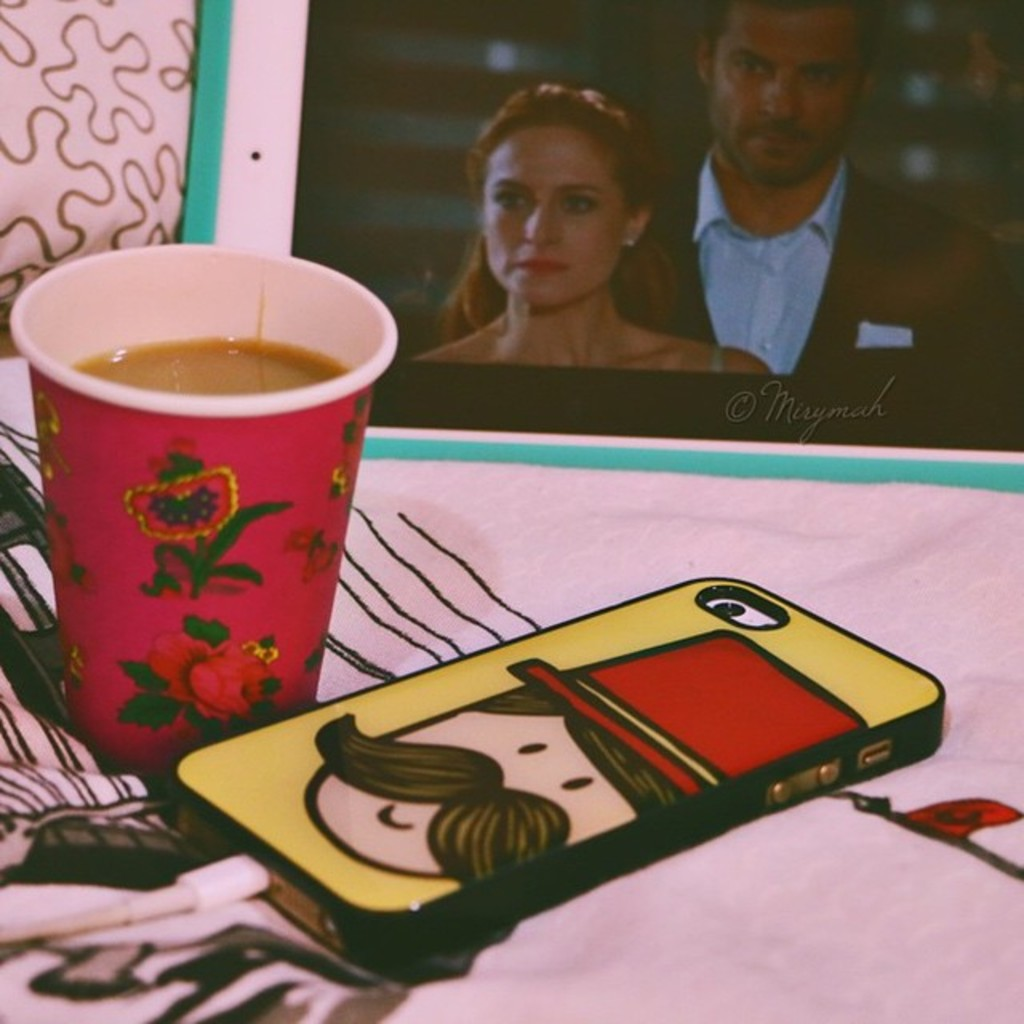face: (469, 83, 664, 316), (687, 3, 894, 194)
